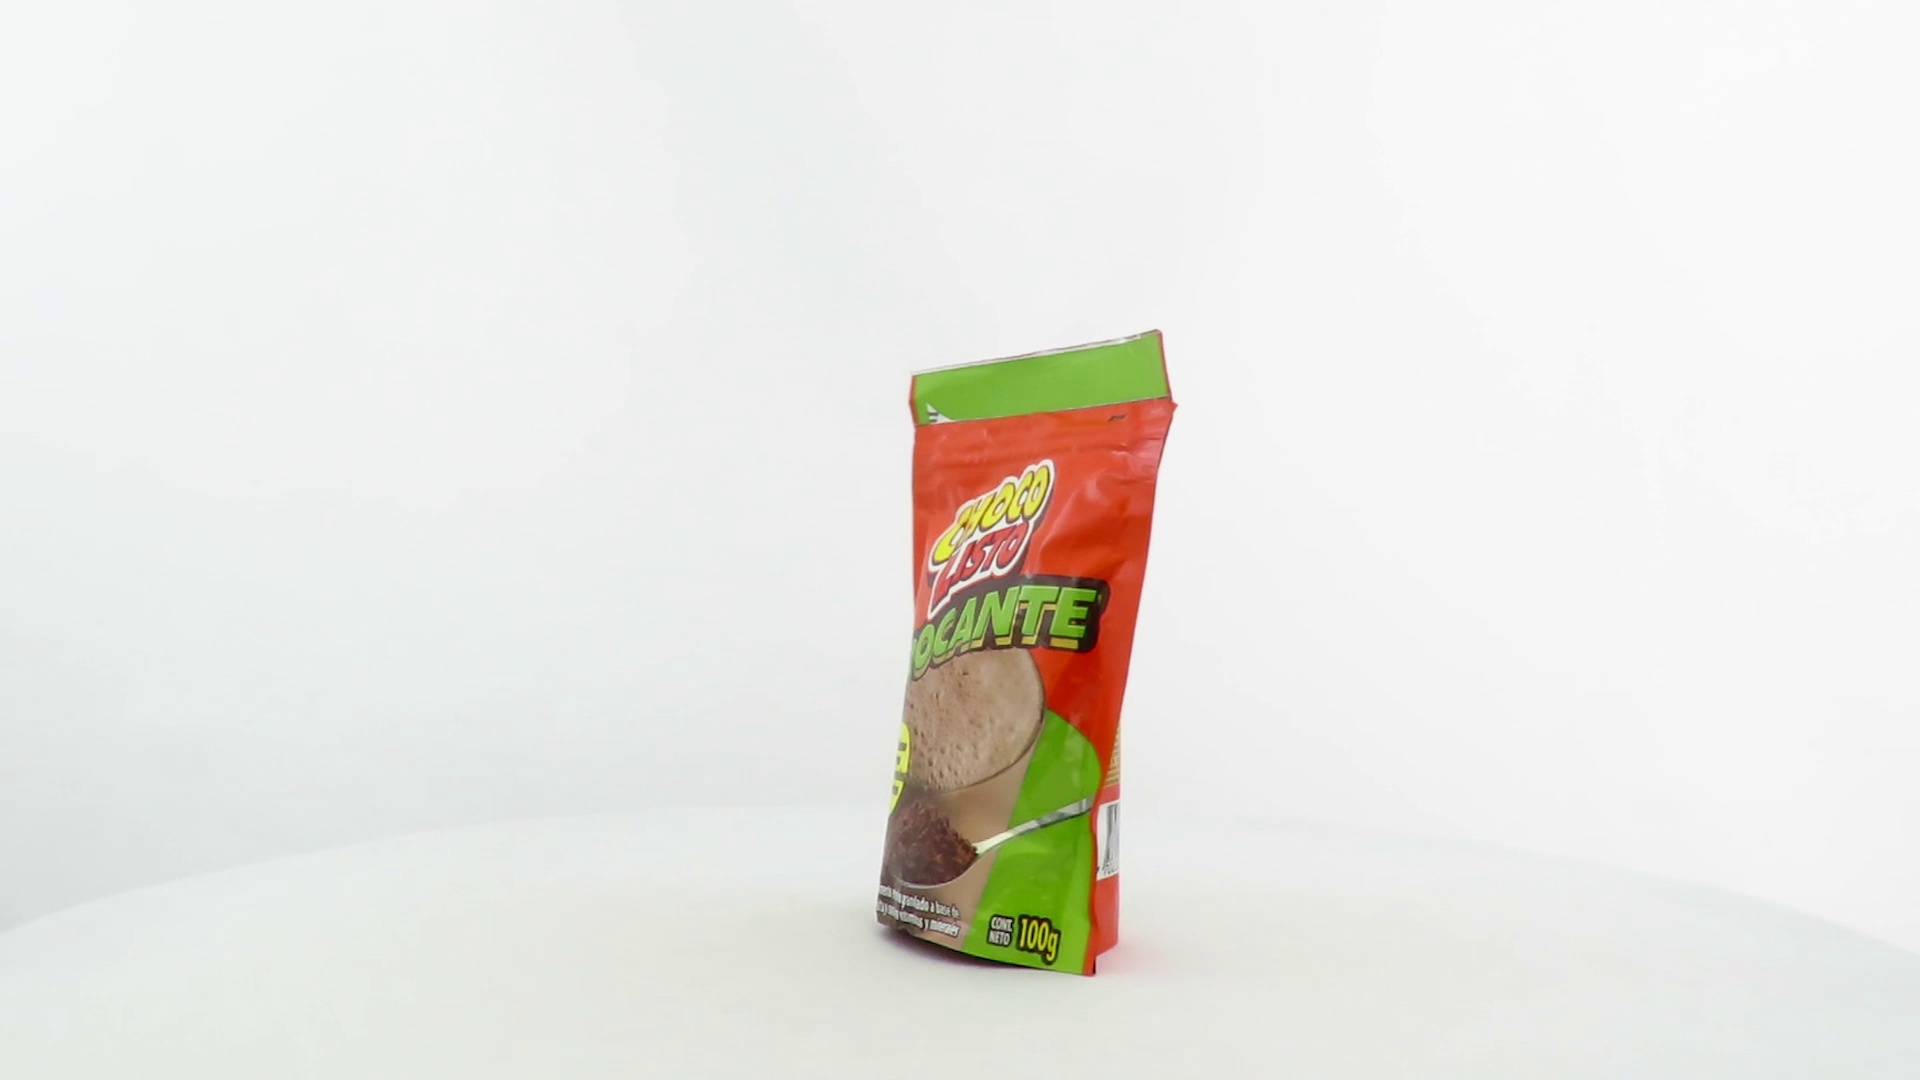COL0170102DYP10000: (870, 324, 1184, 982)
